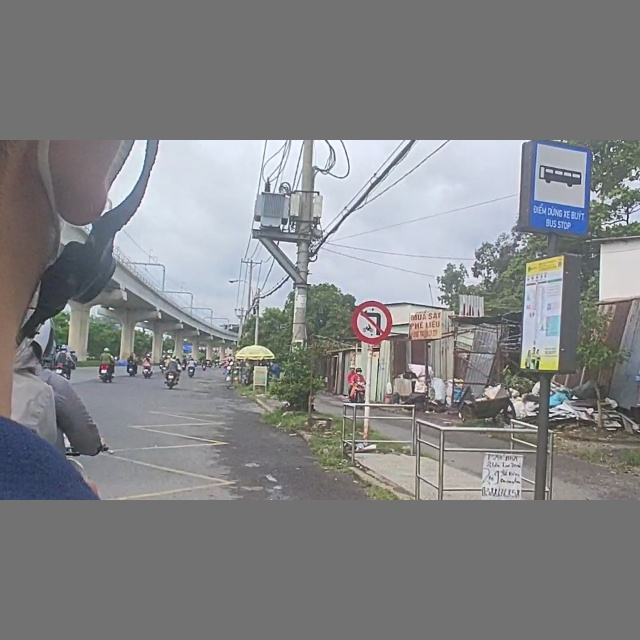I.434a: (521, 141, 589, 239)
P.123a: (350, 300, 394, 345)
